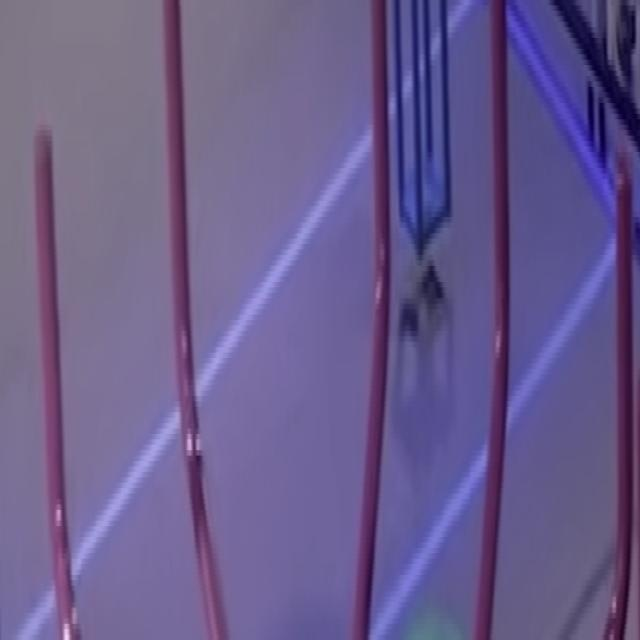Reef: (32, 116, 70, 538), (162, 0, 192, 378), (616, 157, 634, 519), (490, 0, 510, 325), (372, 0, 390, 235)
